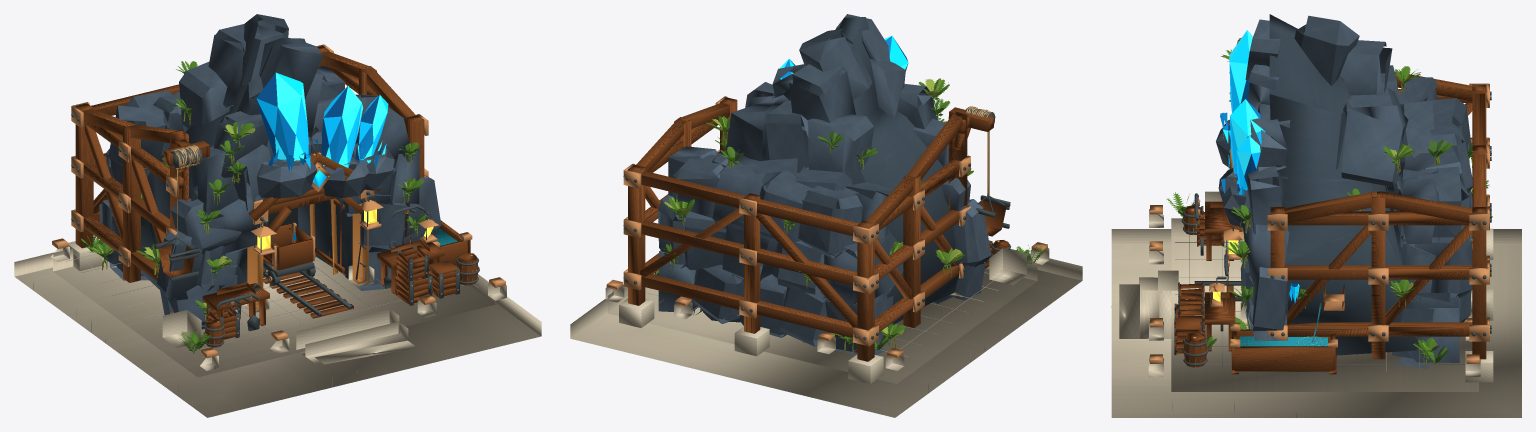
The model's file is vein-lod2-937e88cdd9a1.glb.
3 renders of one model, left to right at view 1: azimuth 30°, elevation 25°; view 2: azimuth 150°, elevation 25°; view 3: azimuth 270°, elevation 25°, orthographic. The views are drawn at different scales.
Parts seen in each view (by area): view 1: GEO-export-MAT-vein-ivory.018, GEO-export-MAT-vein-slate-1.018, GEO-export-MAT-vein-wood-edge.018, GEO-export-MAT-vein-wood.018, GEO-export-MAT-vein-slate-0.018, GEO-export-MAT-vein-iron.018, GEO-export-MAT-vein-copper.018, GEO-export-MAT-vein-fern-leaf.018, GEO-export-MAT-vein-crystal-2.018, GEO-export-MAT-vein-crystal-1.018, GEO-export-MAT-vein-slate-2.018, GEO-export-MAT-vein-v18-tunnel-warm-wood.012 (+5 smaller); view 2: GEO-export-MAT-vein-slate-1.018, GEO-export-MAT-vein-ivory.018, GEO-export-MAT-vein-wood-edge.018, GEO-export-MAT-vein-wood.018, GEO-export-MAT-vein-slate-0.018, GEO-export-MAT-vein-copper.018, GEO-export-MAT-vein-fern-leaf.018, GEO-export-MAT-vein-slate-2.018, GEO-export-MAT-vein-iron.018, GEO-export-MAT-vein-slate-3.018; view 3: GEO-export-MAT-vein-ivory.018, GEO-export-MAT-vein-slate-1.018, GEO-export-MAT-vein-slate-0.018, GEO-export-MAT-vein-wood-edge.018, GEO-export-MAT-vein-wood.018, GEO-export-MAT-vein-copper.018, GEO-export-MAT-vein-fern-leaf.018, GEO-export-MAT-vein-slate-2.018, GEO-export-MAT-vein-iron.018, GEO-export-MAT-vein-crystal-1.018, GEO-export-MAT-vein-crystal-2.018, GEO-export-MAT-vein-slate-3.018 (+3 smaller).
Boxes of the visible parts, x1,y1,x2,y2 form: GEO-export-MAT-vein-ivory.018: (14,241,541,417); GEO-export-MAT-vein-slate-1.018: (99,14,441,329); GEO-export-MAT-vein-wood-edge.018: (83,51,478,347); GEO-export-MAT-vein-wood.018: (75,45,476,334); GEO-export-MAT-vein-slate-0.018: (108,14,440,312); GEO-export-MAT-vein-iron.018: (71,113,479,346); GEO-export-MAT-vein-copper.018: (52,44,505,358); GEO-export-MAT-vein-fern-leaf.018: (81,58,429,353); GEO-export-MAT-vein-crystal-2.018: (275,73,387,167); GEO-export-MAT-vein-crystal-1.018: (256,72,388,187); GEO-export-MAT-vein-slate-2.018: (106,94,437,325); GEO-export-MAT-vein-v18-tunnel-warm-wood.012: (247,198,368,308); GEO-export-MAT-vein-slate-1.018: (658,14,991,355); GEO-export-MAT-vein-ivory.018: (570,248,1082,417); GEO-export-MAT-vein-wood-edge.018: (636,103,1009,337); GEO-export-MAT-vein-wood.018: (628,97,1008,361); GEO-export-MAT-vein-slate-0.018: (658,17,990,334); GEO-export-MAT-vein-copper.018: (606,96,1047,358); GEO-export-MAT-vein-fern-leaf.018: (655,78,1045,350); GEO-export-MAT-vein-slate-2.018: (658,66,985,337); GEO-export-MAT-vein-iron.018: (623,107,1010,340); GEO-export-MAT-vein-slate-3.018: (679,41,961,342); GEO-export-MAT-vein-ivory.018: (1111,191,1521,417); GEO-export-MAT-vein-slate-1.018: (1216,19,1472,371); GEO-export-MAT-vein-slate-0.018: (1216,14,1471,355); GEO-export-MAT-vein-wood-edge.018: (1174,72,1484,370); GEO-export-MAT-vein-wood.018: (1175,84,1486,374); GEO-export-MAT-vein-copper.018: (1149,83,1489,363); GEO-export-MAT-vein-fern-leaf.018: (1166,49,1492,363); GEO-export-MAT-vein-slate-2.018: (1216,56,1469,337); GEO-export-MAT-vein-iron.018: (1174,38,1491,365); GEO-export-MAT-vein-crystal-1.018: (1222,30,1299,302); GEO-export-MAT-vein-crystal-2.018: (1223,30,1299,298); GEO-export-MAT-vein-slate-3.018: (1227,21,1472,371).
Bounding box in the file's own units: 10 × 8.27 × 9.99.
27 materials, 7 textured.
